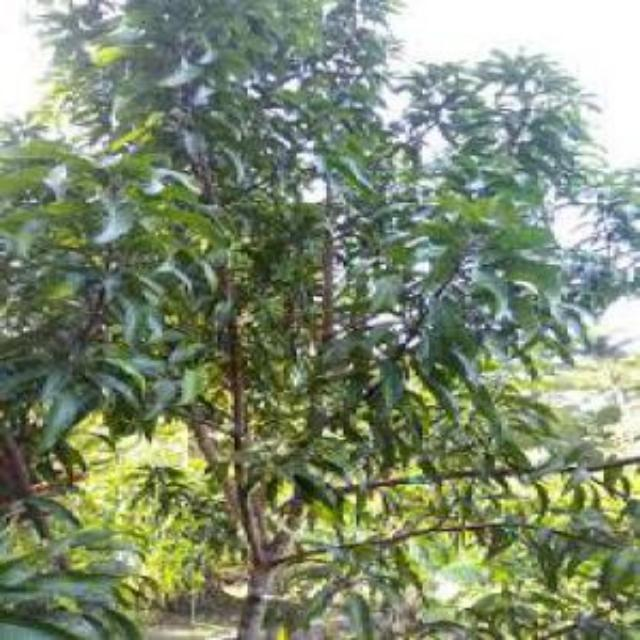tree: (13, 1, 627, 634)
